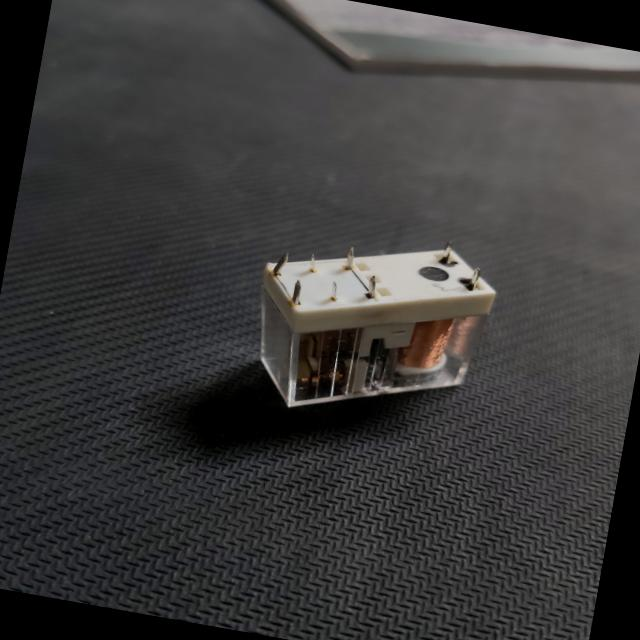relay: (215, 199, 512, 445)
